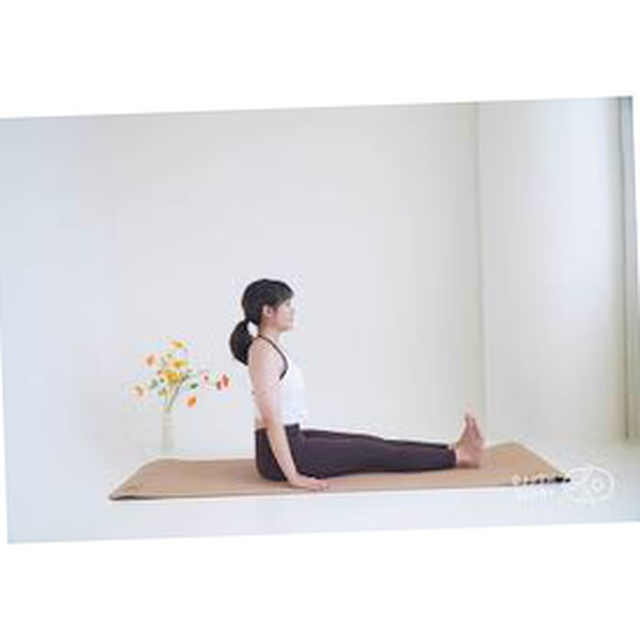Staff_Pose: (229, 277, 485, 491)
